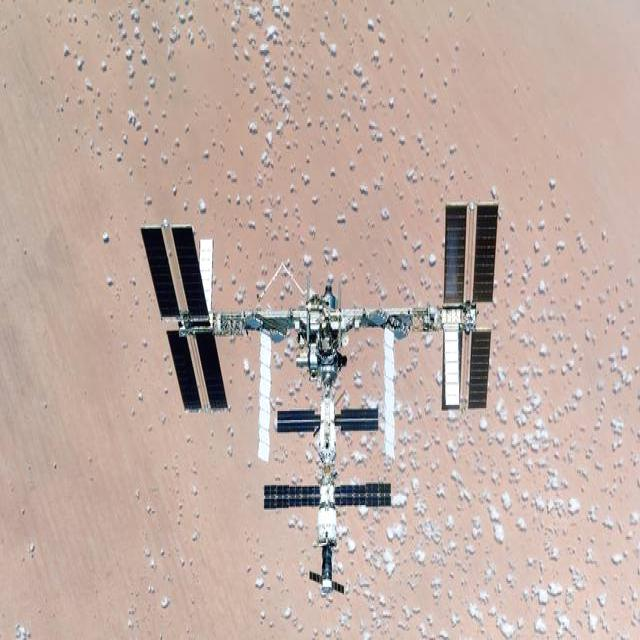medium_debris: (141, 205, 497, 591)
